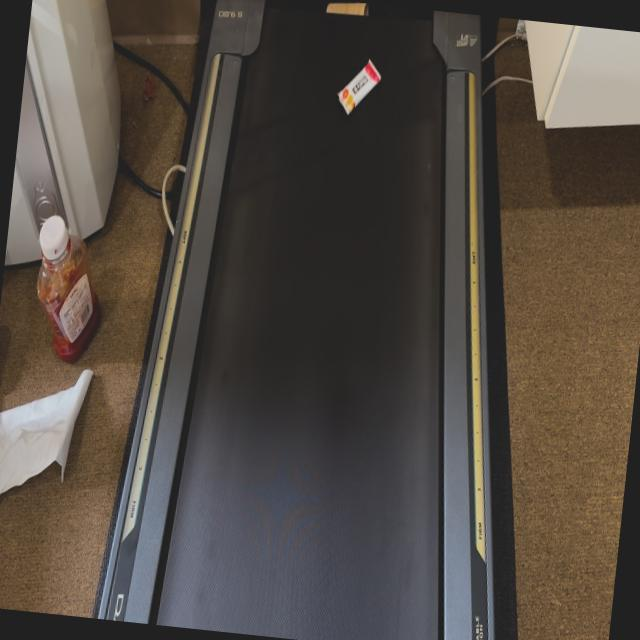Trash: (334, 48, 386, 124)
